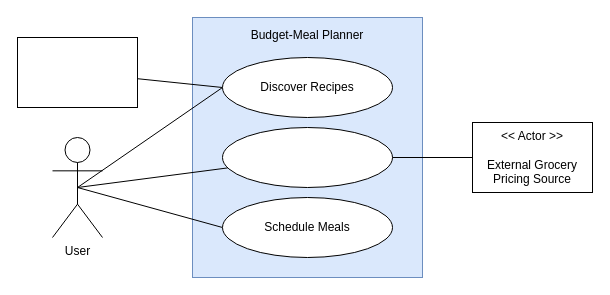
This 610x295 diagram has some shape labels left out. The shapes that lost their labels are listed below. From the top down, each one's centre as x and y in pixels, then its label:
point (77, 72): << Actor >> External Recipe Source
point (307, 157): Plan for Grocery Shopping
